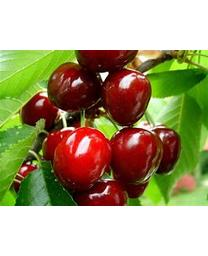cherry: (51, 126, 111, 186), (108, 126, 162, 185), (47, 62, 104, 111), (102, 67, 151, 124), (20, 91, 60, 132)
